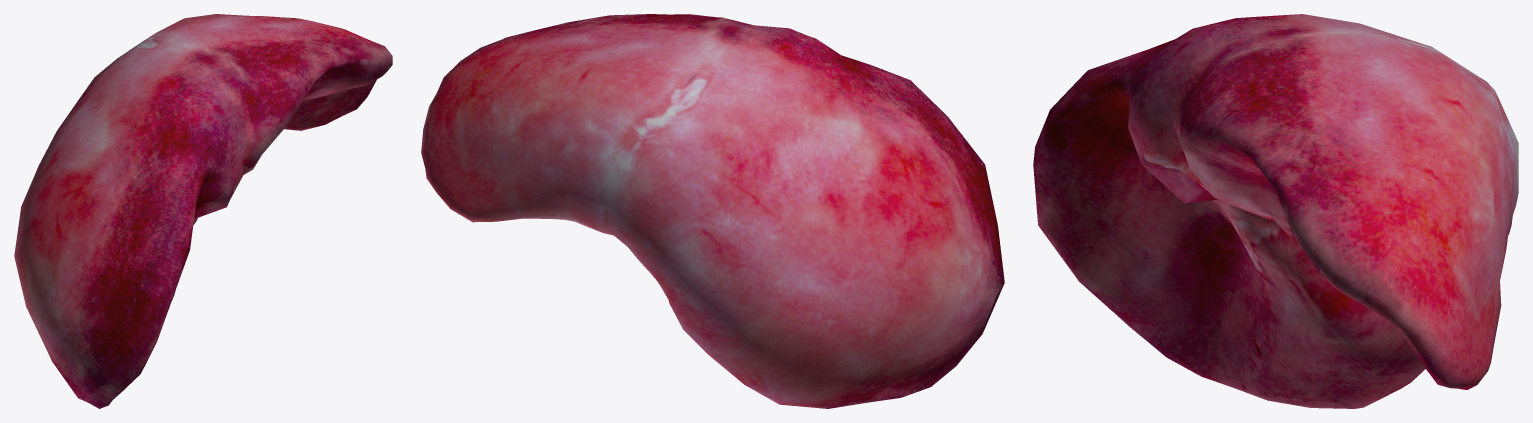
The model's file is asset6.glb.
The picture shows the model from 3 angles, left to right: view 1: azimuth 30°, elevation 25°; view 2: azimuth 150°, elevation 25°; view 3: azimuth 270°, elevation 25°; orthographic projection. The views are drawn at different scales.
Parts seen in each view (by area): view 1: Gallbladder_pivot.020; view 2: Gallbladder_pivot.020; view 3: Gallbladder_pivot.020.
Boxes of the visible parts, bbox=[...] form: Gallbladder_pivot.020: bbox=[14, 14, 392, 408]; Gallbladder_pivot.020: bbox=[421, 14, 1004, 408]; Gallbladder_pivot.020: bbox=[1033, 14, 1518, 408].
Bounding box in the file's own units: 0.3283 × 0.2324 × 0.229.
1 material, 1 textured.
